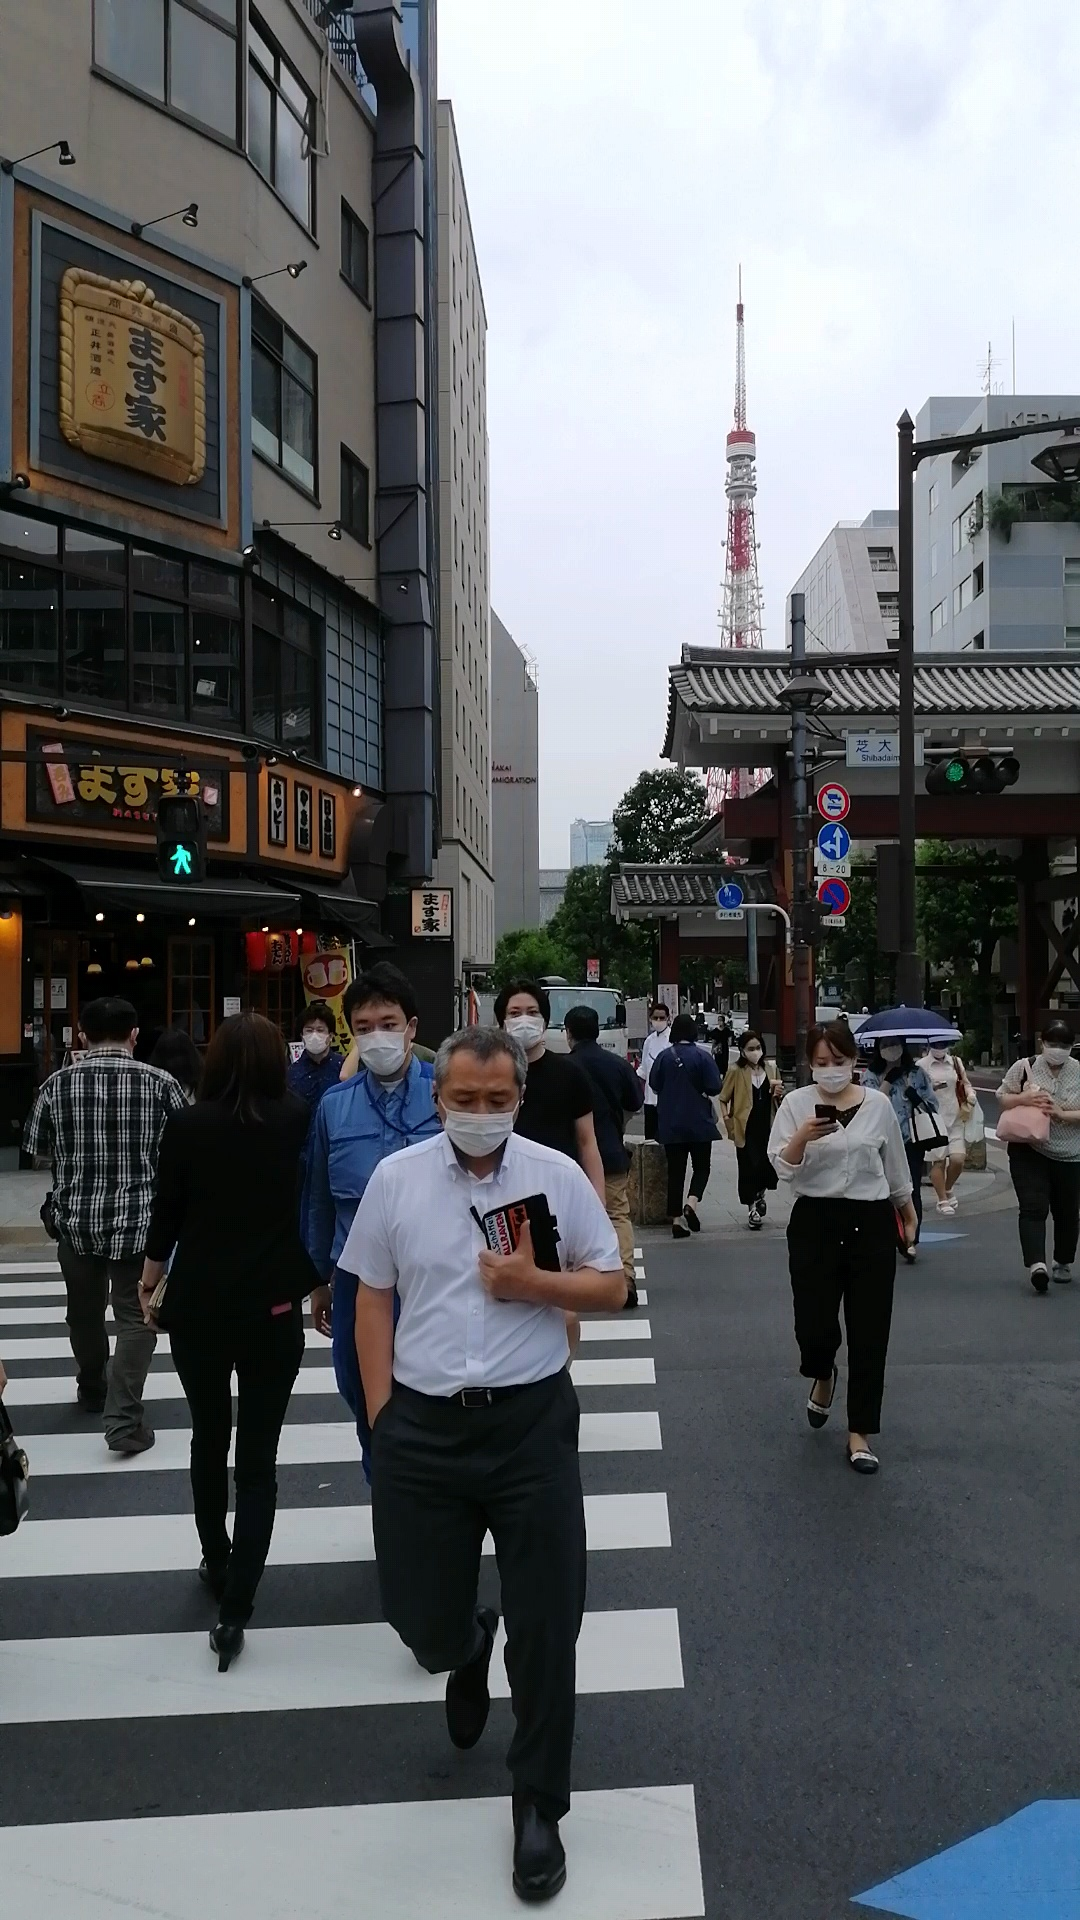green: (156, 794, 206, 885)
